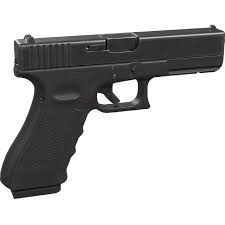weapon: (1, 25, 225, 199)
